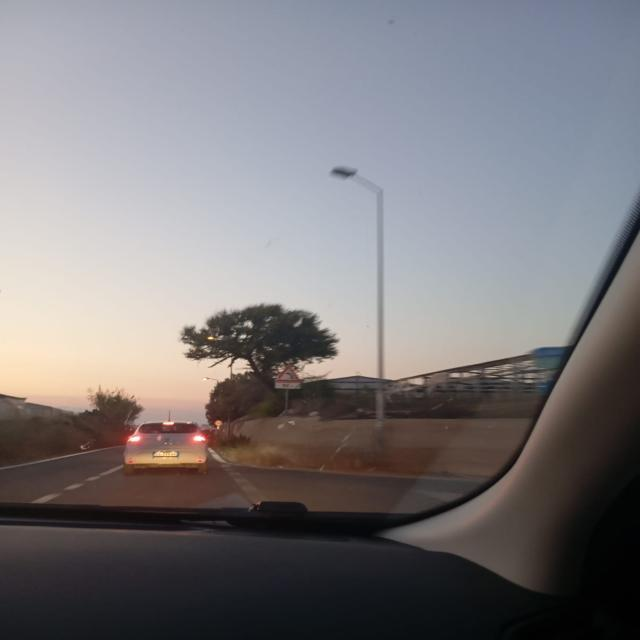warn_left_curve: (275, 364, 302, 382)
